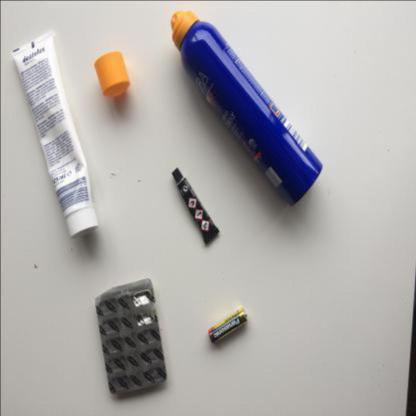Bottle: (94, 51, 130, 97), (65, 207, 98, 238)
Can: (170, 10, 322, 206)
Other litter: (11, 31, 98, 240), (94, 278, 166, 394), (172, 167, 219, 244), (208, 307, 248, 344)
